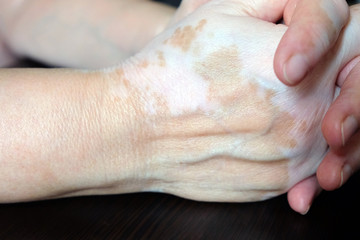vitiligo: (125, 19, 351, 188)
